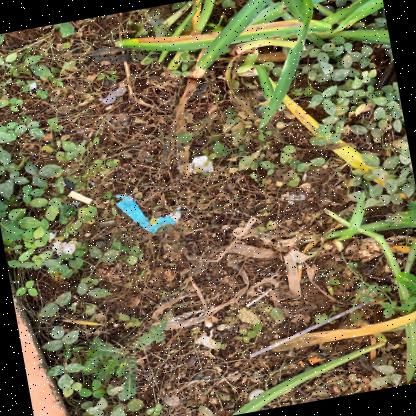Cigarette: (67, 189, 92, 203), (308, 354, 324, 364), (297, 263, 303, 281)
Other plastic: (188, 155, 213, 174)
Other plastic bottle: (98, 85, 128, 103), (232, 216, 257, 237)
Plastic bottle cap: (248, 388, 264, 401)
Plastic straw: (249, 300, 371, 357)
Unlabeled litter: (284, 249, 310, 296), (245, 288, 272, 307), (51, 240, 81, 255), (281, 191, 304, 200), (29, 81, 36, 89)
Wrapping paper: (115, 195, 180, 232)
